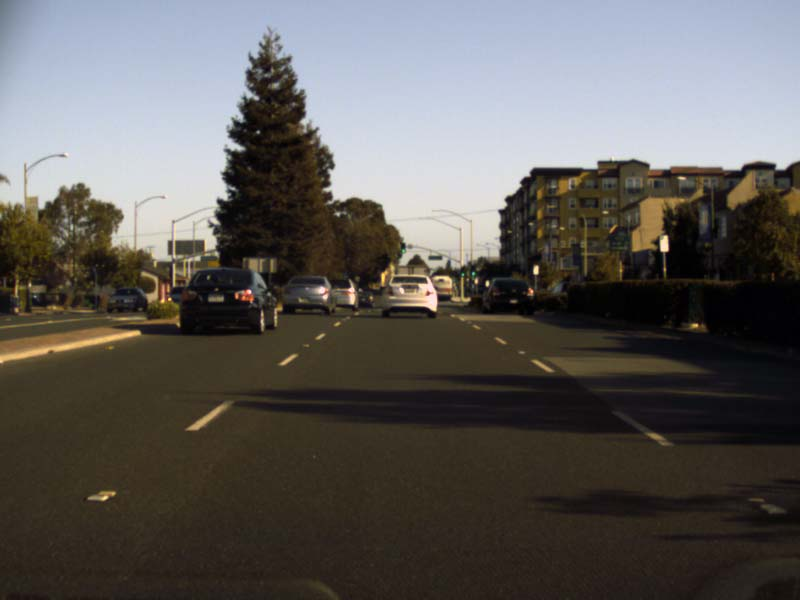Green: (400, 243, 405, 253), (470, 266, 475, 276), (460, 267, 465, 276)
